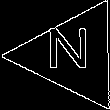N_S: (49, 30, 96, 81)
